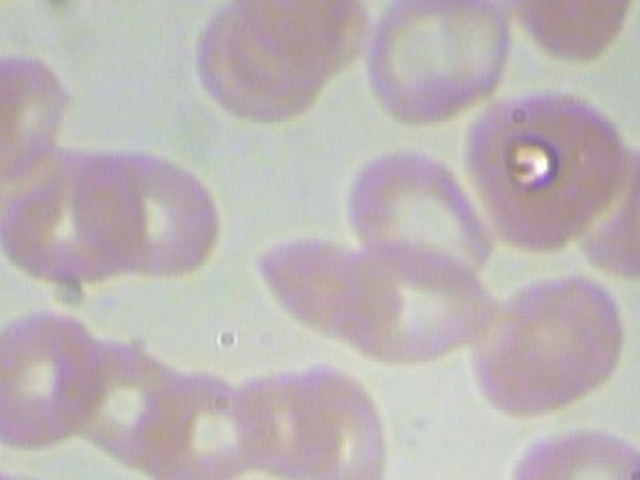RBC: (464, 78, 638, 259), (459, 264, 636, 425), (346, 0, 513, 129), (255, 216, 410, 351), (68, 140, 223, 274), (36, 327, 180, 461), (0, 291, 113, 457), (138, 354, 262, 480), (294, 361, 403, 480), (235, 357, 339, 480), (480, 0, 640, 70), (506, 428, 640, 480)
